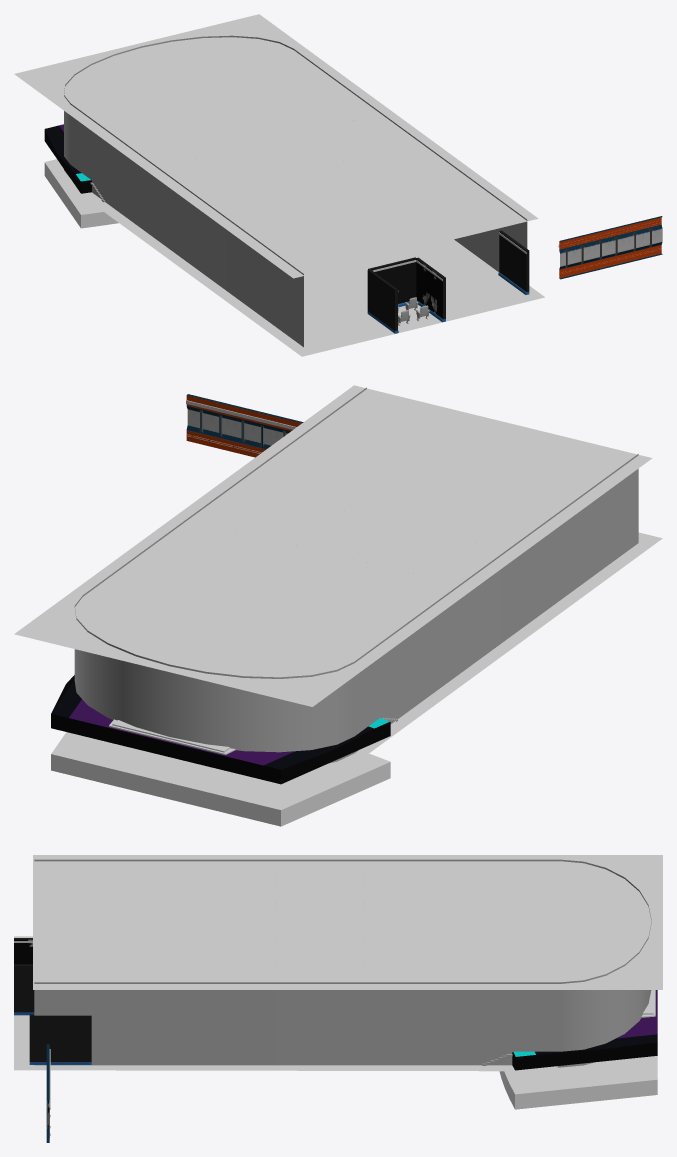
Rendered from Env_Container_002.fbx.
3 renders of one model, top to bottom at view 1: azimuth 30°, elevation 25°; view 2: azimuth 150°, elevation 25°; view 3: azimuth 270°, elevation 25°, orthographic. The views are drawn at different scales.
Parts seen in each view (by area): view 1: polySurface8, pCylinder4, polySurface3, lp_stage, WW_wall_duct_geo2, WW_wall_duct_geo15, WW_wall_duct_geo1, SE_flatwall_geo2, SE_flatwall_geo1, SE_flatwall_geo, WW_wall_duct_geo14, hp_stage; view 2: polySurface8, pCylinder4, lp_stage, hp_stage, polySurface3, SE_flatwall_geo, SE_flatwall_geo1; view 3: polySurface8, pCylinder4, lp_stage, polySurface3, hp_stage, WW_wall_duct_geo2, WW_wall_duct_geo1, WW_wall_duct_geo15.
Part boxes in pixels (x1=…): polySurface8: x1=14, y1=14, x2=538, y2=278; pCylinder4: x1=64, y1=35, x2=527, y2=347; polySurface3: x1=61, y1=178, x2=544, y2=356; lp_stage: x1=44, y1=159, x2=118, y2=228; WW_wall_duct_geo2: x1=498, y1=230, x2=529, y2=294; WW_wall_duct_geo15: x1=367, y1=269, x2=398, y2=333; WW_wall_duct_geo1: x1=416, y1=257, x2=445, y2=322; SE_flatwall_geo2: x1=558, y1=232, x2=594, y2=279; SE_flatwall_geo1: x1=593, y1=224, x2=628, y2=270; SE_flatwall_geo: x1=627, y1=216, x2=662, y2=262; WW_wall_duct_geo14: x1=368, y1=257, x2=416, y2=306; hp_stage: x1=44, y1=124, x2=91, y2=193; polySurface8: x1=14, y1=385, x2=652, y2=706; pCylinder4: x1=74, y1=387, x2=638, y2=763; lp_stage: x1=51, y1=732, x2=390, y2=826; hp_stage: x1=51, y1=675, x2=390, y2=784; polySurface3: x1=358, y1=532, x2=662, y2=753; SE_flatwall_geo: x1=186, y1=394, x2=229, y2=450; SE_flatwall_geo1: x1=227, y1=404, x2=270, y2=457; polySurface8: x1=33, y1=855, x2=662, y2=989; pCylinder4: x1=34, y1=859, x2=651, y2=1067; lp_stage: x1=499, y1=1056, x2=657, y2=1109; polySurface3: x1=14, y1=936, x2=557, y2=1071; hp_stage: x1=512, y1=990, x2=657, y2=1070; WW_wall_duct_geo2: x1=29, y1=1014, x2=91, y2=1064; WW_wall_duct_geo1: x1=14, y1=964, x2=34, y2=1015; WW_wall_duct_geo15: x1=14, y1=938, x2=32, y2=964.
Bounding box in the file's own units: 3723 × 1025 × 4943.
